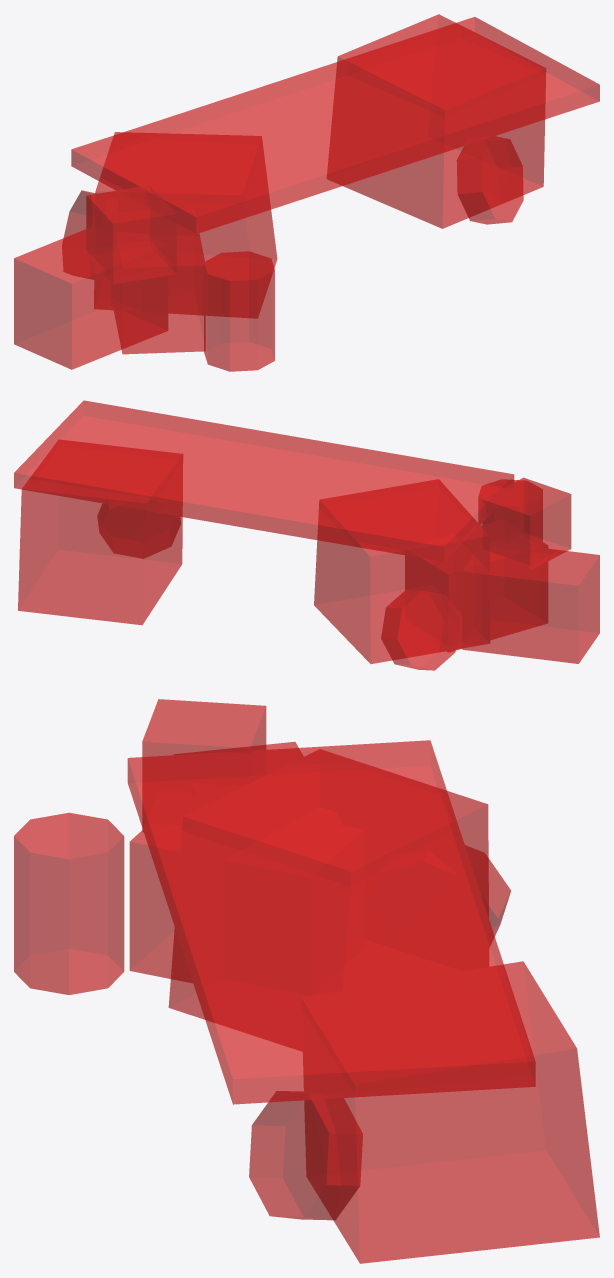
File: SM_Obstacle_04_Collision.fbx
The picture shows the model from 3 angles, top to bottom: view 1: azimuth 30°, elevation 25°; view 2: azimuth 150°, elevation 25°; view 3: azimuth 270°, elevation 25°; orthographic projection. The views are drawn at different scales.
Visible parts, largest first — view 1: Obstacle_04_Collision; view 2: Obstacle_04_Collision; view 3: Obstacle_04_Collision.
Part boxes in pixels (x1,y1,x2,y2): Obstacle_04_Collision: (14,14,599,371); Obstacle_04_Collision: (14,400,599,670); Obstacle_04_Collision: (14,699,599,1263).
Size of the model in its own units: 692 by 165 by 414.
